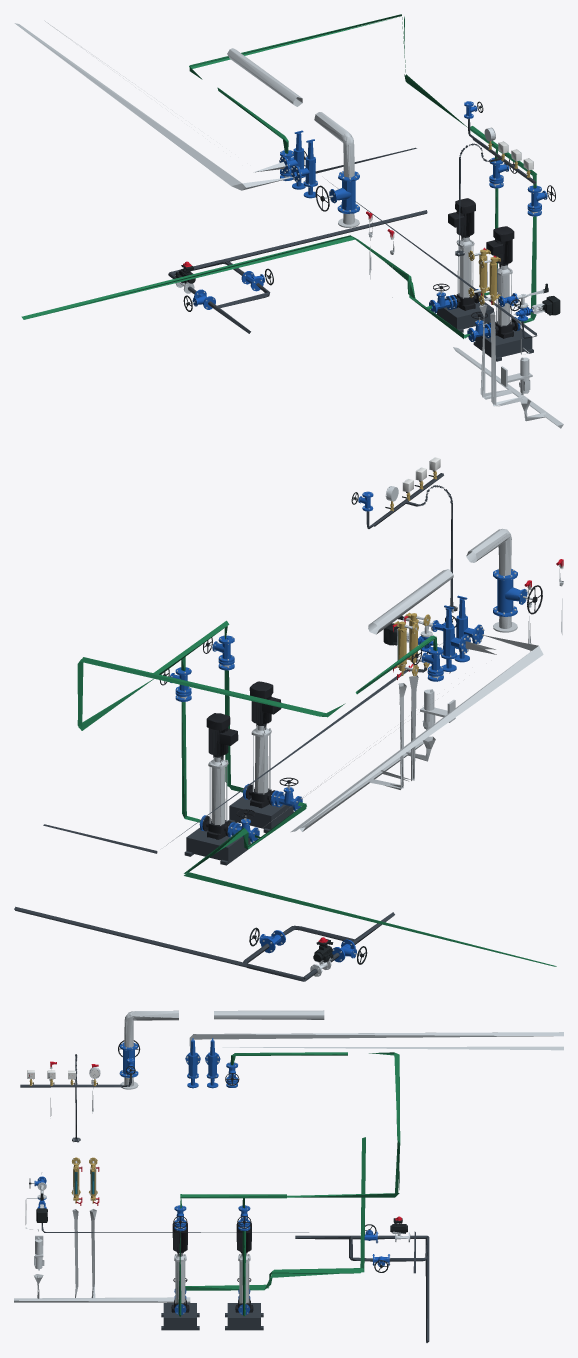
The picture shows the model from 3 angles, top to bottom: view 1: azimuth 30°, elevation 25°; view 2: azimuth 150°, elevation 25°; view 3: azimuth 270°, elevation 25°; orthographic projection. The views are drawn at different scales.
Parts seen in each view (by area): view 1: suction_common, safety_vent_1, pump_2, local_open_drains, pump_1, pump_branch_1, to_direct, pump_branch_2, steam_delivery, steam_manual, bottom_discharge, steam_rise (+5 smaller); view 2: pump_2, pump_1, safety_vent_1, to_direct, pump_branch_2, suction_common, local_open_drains, pump_branch_1, steam_manual, steam_delivery, bottom_discharge, steam_rise (+4 smaller); view 3: safety_vent_1, suction_common, local_open_drains, pump_branch_2, pump_branch_1, to_direct, steam_delivery, pump_1, pump_2, safety_vent_2, steam_rise, pressure_header (+3 smaller).
Part boxes in pixels (left/top/right/bottom): suction_common: left=21, top=235, right=463, bottom=338; safety_vent_1: left=14, top=23, right=295, bottom=190; pump_2: left=448, top=198, right=479, bottom=310; local_open_drains: left=453, top=304, right=563, bottom=428; pump_1: left=486, top=226, right=517, bottom=338; pump_branch_1: left=464, top=174, right=536, bottom=361; to_direct: left=189, top=14, right=467, bottom=127; pump_branch_2: left=425, top=149, right=498, bottom=332; steam_delivery: left=227, top=48, right=302, bottom=106; steam_manual: left=315, top=171, right=359, bottom=214; bottom_discharge: left=170, top=210, right=427, bottom=274; steam_rise: left=314, top=112, right=354, bottom=177; pump_2: left=202, top=713, right=238, bottom=839; pump_1: left=245, top=681, right=281, bottom=808; safety_vent_1: left=290, top=635, right=543, bottom=832; to_direct: left=77, top=657, right=345, bottom=730; pump_branch_2: left=181, top=657, right=261, bottom=865; suction_common: left=184, top=803, right=556, bottom=966; local_open_drains: left=300, top=675, right=435, bottom=831; pump_branch_1: left=224, top=626, right=306, bottom=832; steam_manual: left=493, top=568, right=542, bottom=616; steam_delivery: left=368, top=569, right=453, bottom=634; bottom_discharge: left=14, top=906, right=304, bottom=981; steam_rise: left=466, top=528, right=511, bottom=575; safety_vent_1: left=189, top=1032, right=563, bottom=1052; suction_common: left=185, top=1137, right=365, bottom=1290; local_open_drains: left=14, top=1209, right=190, bottom=1302; pump_branch_2: left=225, top=1198, right=263, bottom=1330; pump_branch_1: left=161, top=1198, right=199, bottom=1330; to_direct: left=287, top=1052, right=400, bottom=1197; steam_delivery: left=214, top=1010, right=324, bottom=1019; pump_1: left=171, top=1221, right=189, bottom=1312; pump_2: left=235, top=1221, right=253, bottom=1312; safety_vent_2: left=210, top=1046, right=563, bottom=1051; steam_rise: left=124, top=1010, right=178, bottom=1047; pressure_header: left=20, top=1054, right=131, bottom=1142.
Bounding box in the file's own units: 5 × 3.07 × 6.45.
